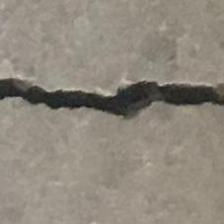Crack: (5, 71, 224, 150)
